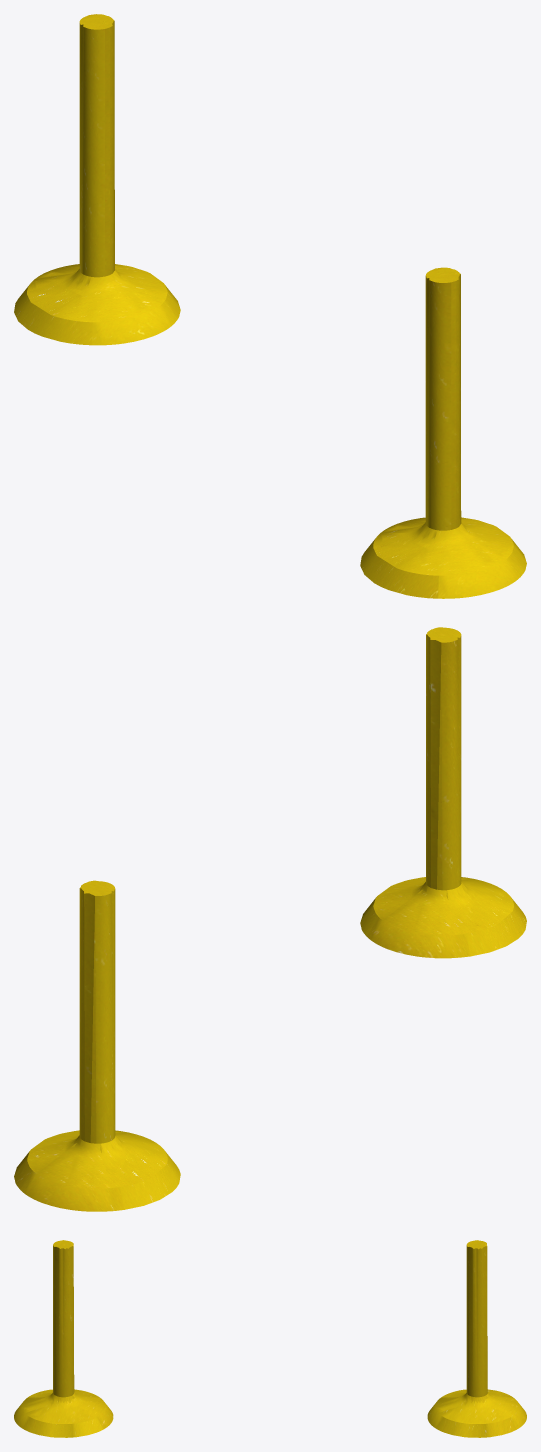
The model's file is valve4.obj.
3 views of the same model, one above another, from view 1: azimuth 30°, elevation 25°; view 2: azimuth 150°, elevation 25°; view 3: azimuth 270°, elevation 25° (orthographic). The views are drawn at different scales.
Visible parts, largest first — view 1: ValveSet4_Gear.003; view 2: ValveSet4_Gear.003; view 3: ValveSet4_Gear.003.
Part boxes in pixels (x1,y1,x2,y2): ValveSet4_Gear.003: (14,14,526,598); ValveSet4_Gear.003: (14,627,526,1211); ValveSet4_Gear.003: (14,1240,526,1437).
Size of the model in its own units: 1.14 by 2.23 by 5.98.
2 materials, 2 textured.
